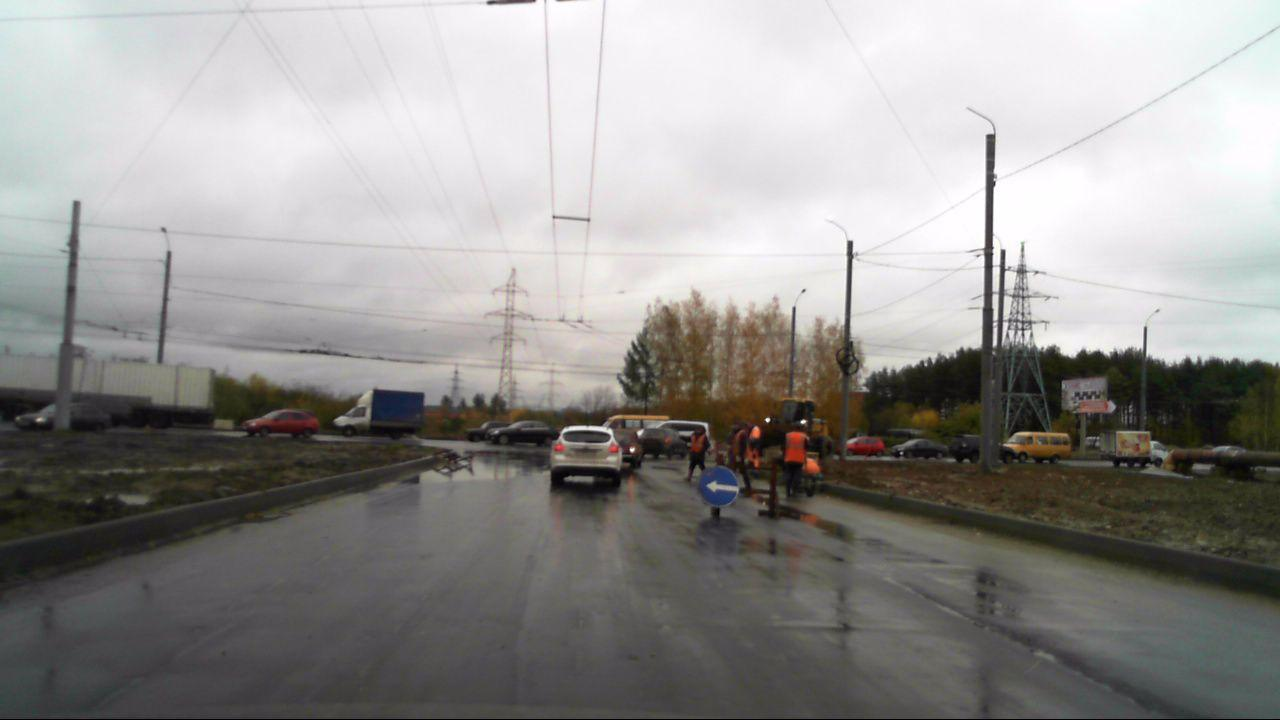4_2_2: (696, 464, 740, 510)
